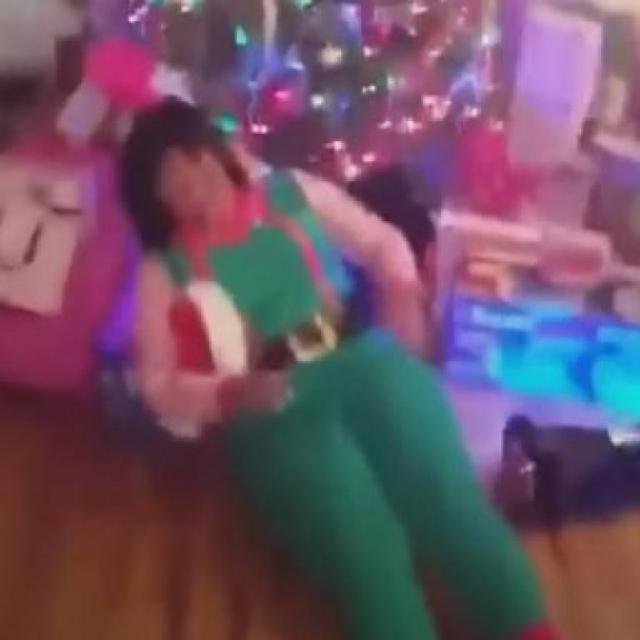fall: (120, 96, 569, 639)
